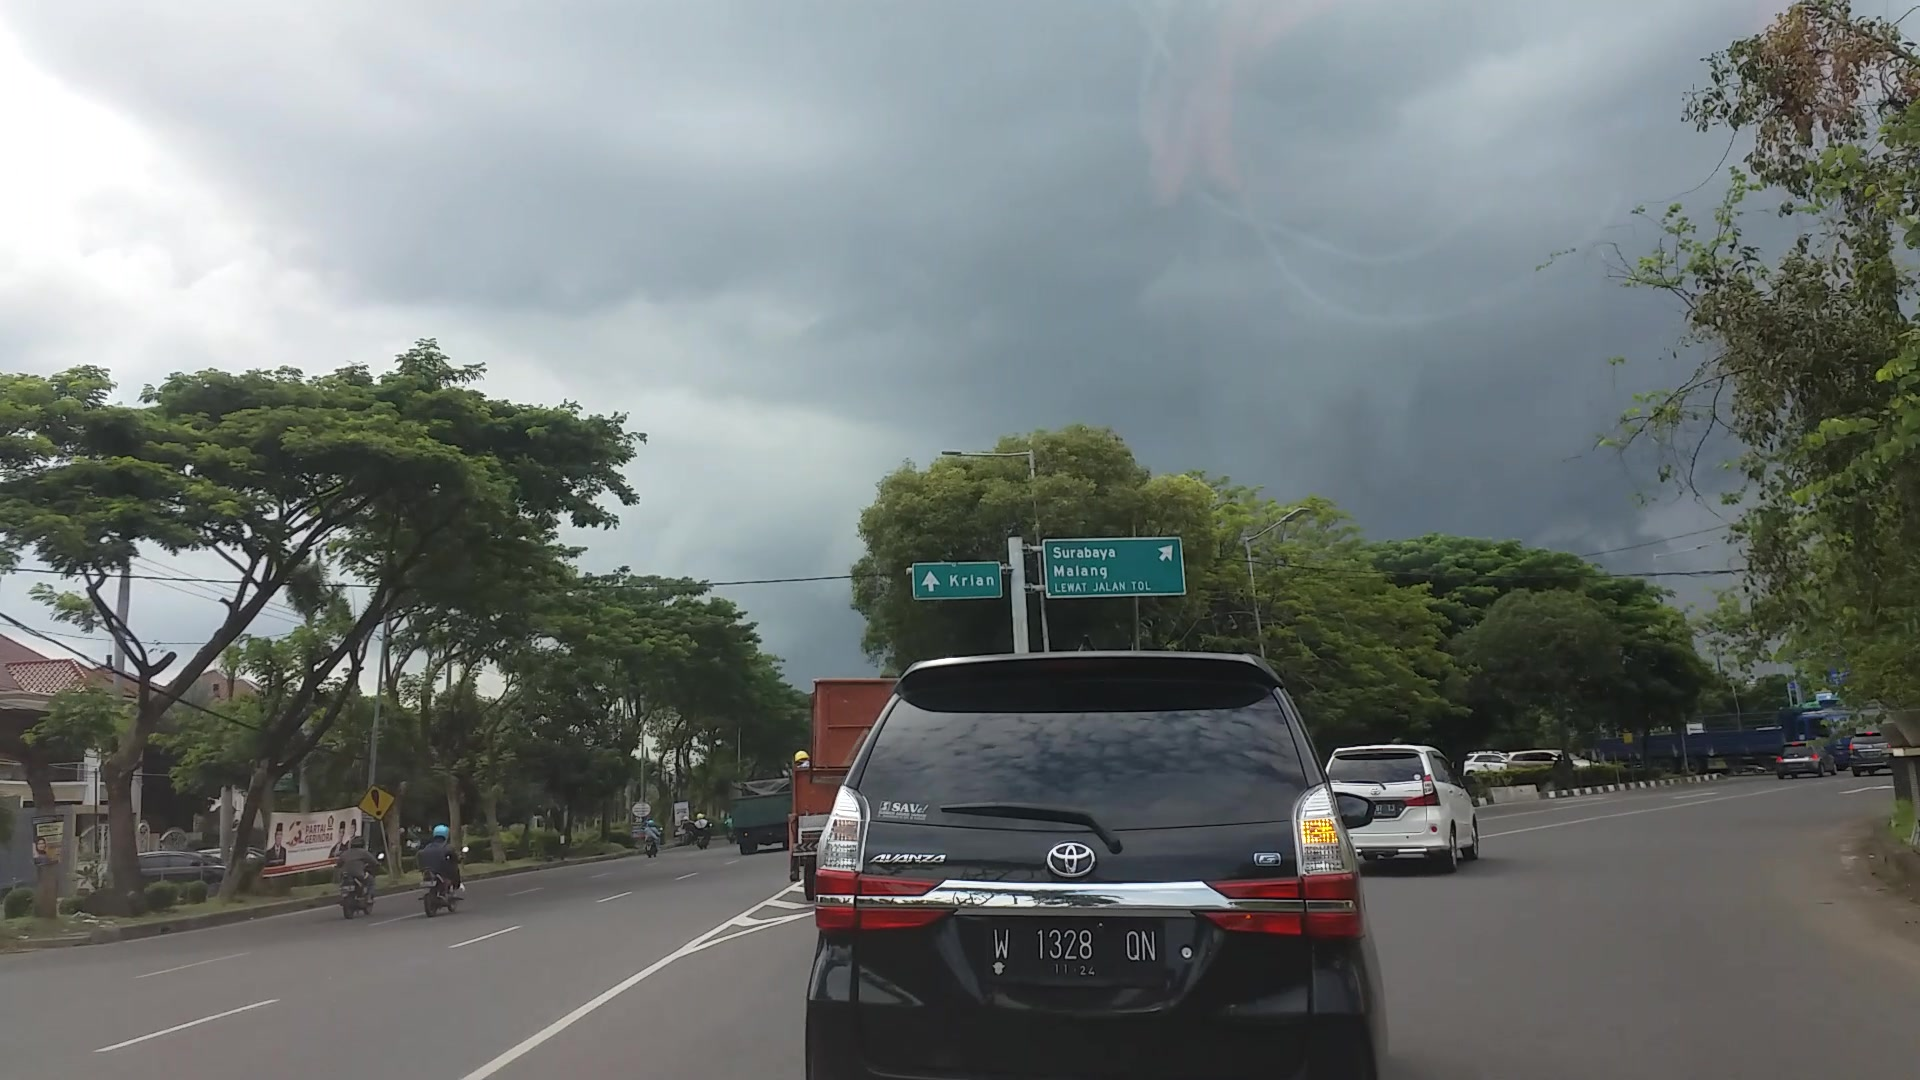plate_positive: (988, 916, 1162, 980)
